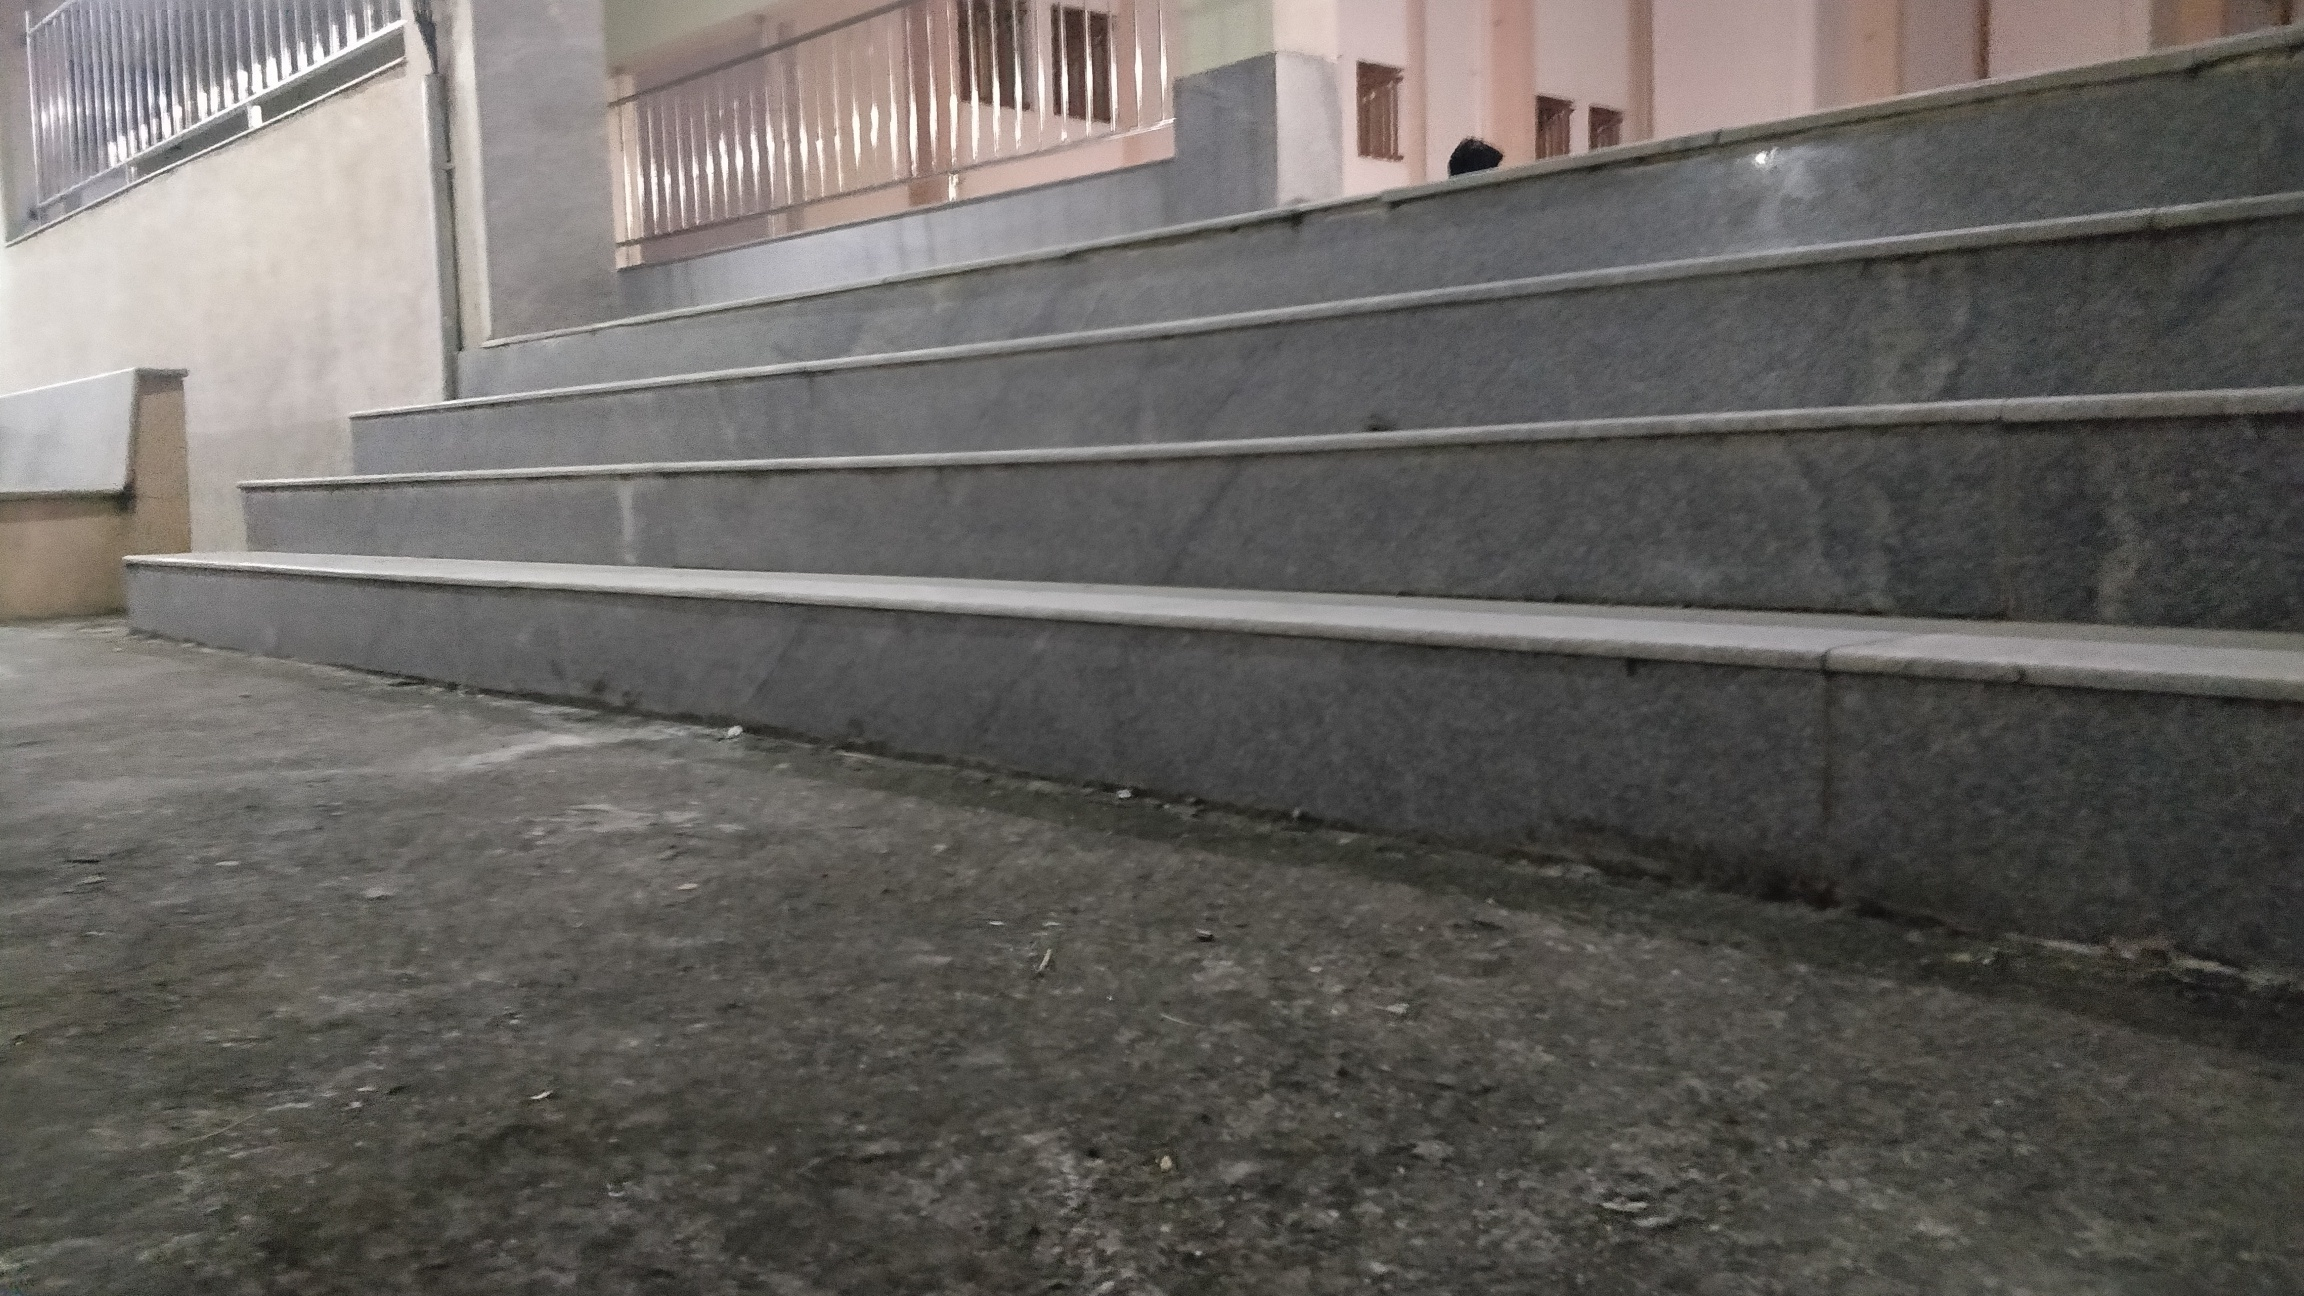stairs_up: (347, 70, 2276, 767)
